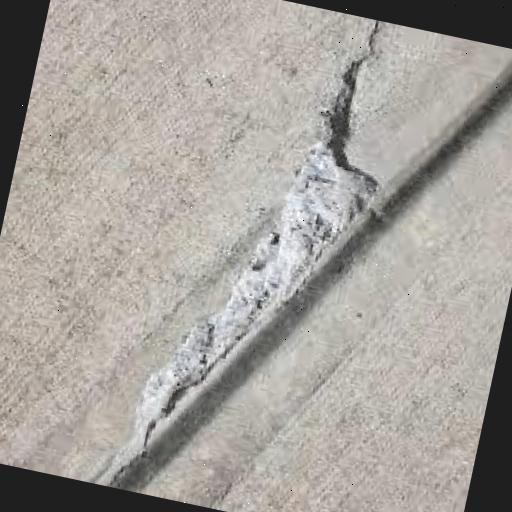spalling: (121, 26, 388, 463)
